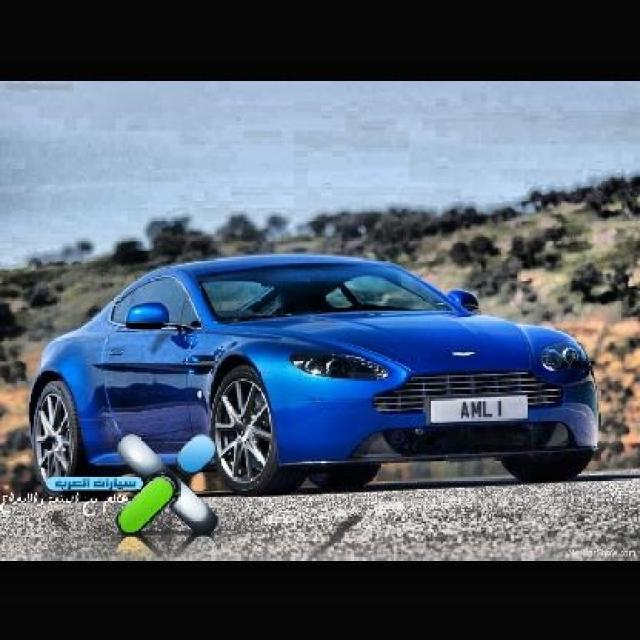blue: (31, 251, 584, 481)
